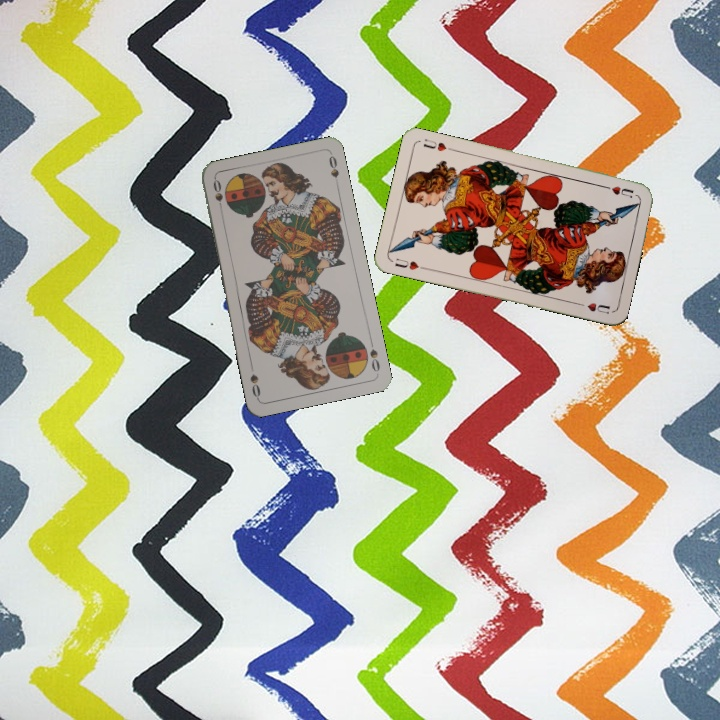HU: (391, 254, 428, 273), (607, 182, 636, 201)
SO: (209, 175, 226, 216), (365, 335, 382, 375)
